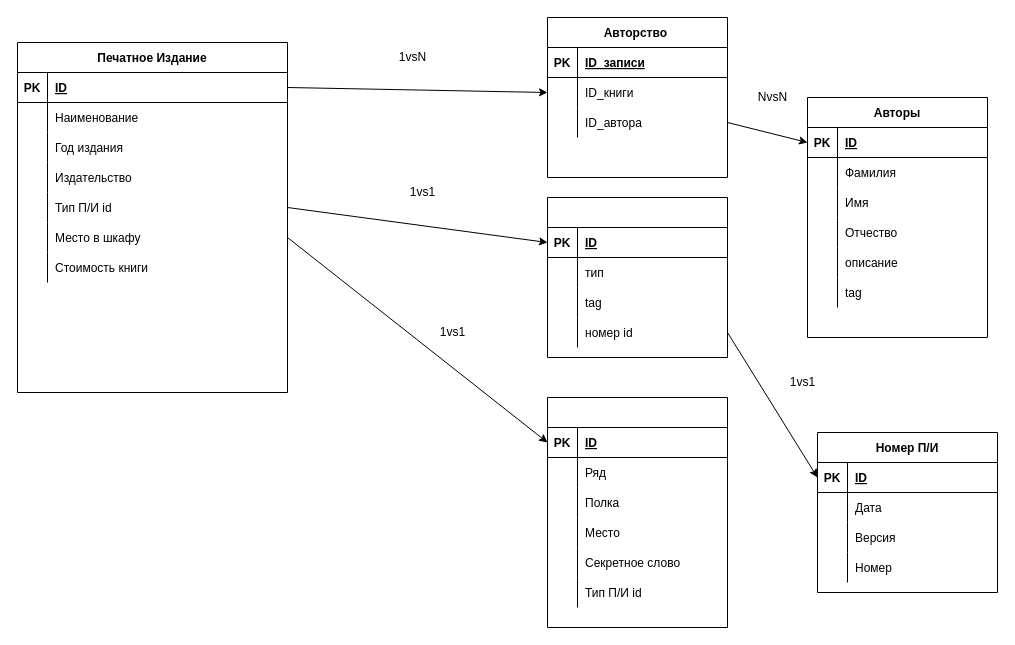
Some shapes in this 1015 by 645 pixel diagram are drawn without their labels. The box of each missing label's shape, as (x1, y1, x2, y2) in pixels:
Тип П/И: (546, 196, 728, 358)
Шкаф: (546, 396, 728, 628)
